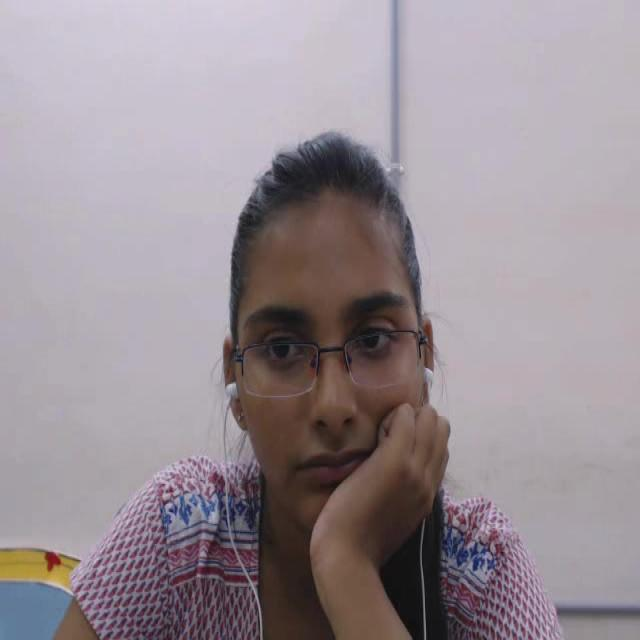Bored: (207, 106, 466, 570)
